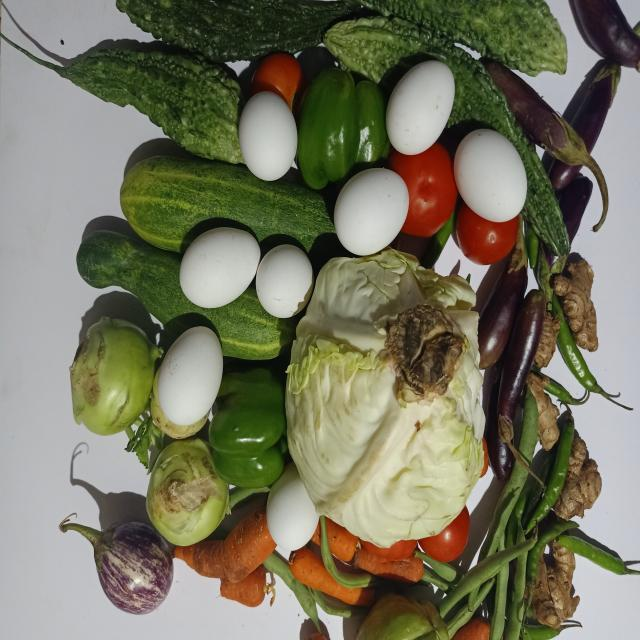Beans: (440, 539, 537, 618)
Bitter Gourd: (324, 15, 571, 254), (1, 33, 244, 163)
Brinjal: (479, 226, 528, 369)
Cabbage: (286, 248, 485, 548)
Carrot: (174, 509, 276, 584)
Cucumber: (76, 231, 297, 360), (119, 156, 336, 253)
Egg: (455, 128, 528, 222), (386, 59, 456, 154), (334, 167, 409, 255), (179, 227, 260, 308), (238, 90, 298, 180), (256, 244, 314, 317)
Eggplant: (58, 516, 173, 615), (168, 476, 219, 513)
Green Chilly: (553, 292, 604, 392)
Turnip: (68, 317, 162, 435)
